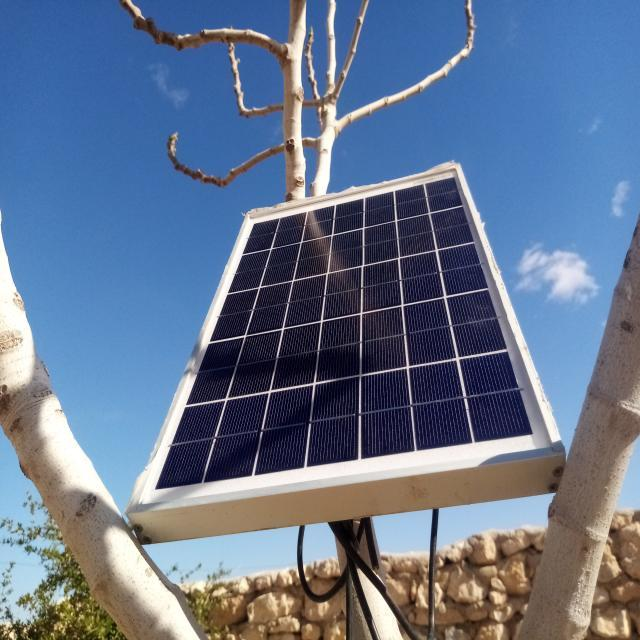no faulty: (129, 162, 562, 515)
